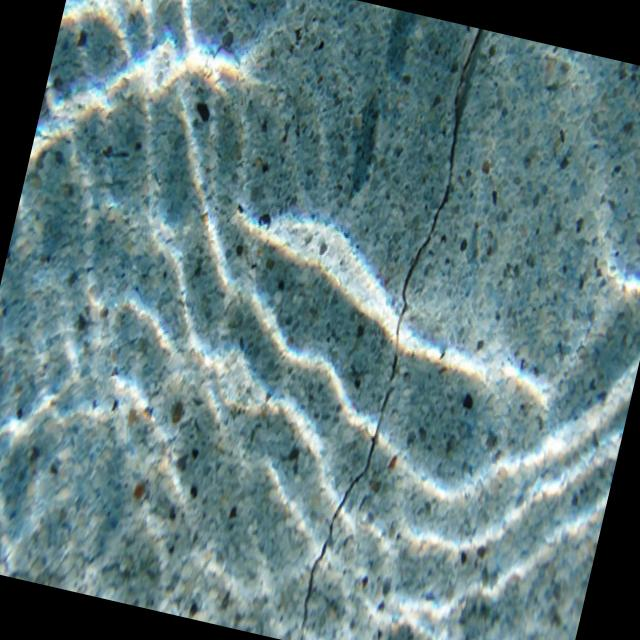crack: (291, 18, 508, 640)
